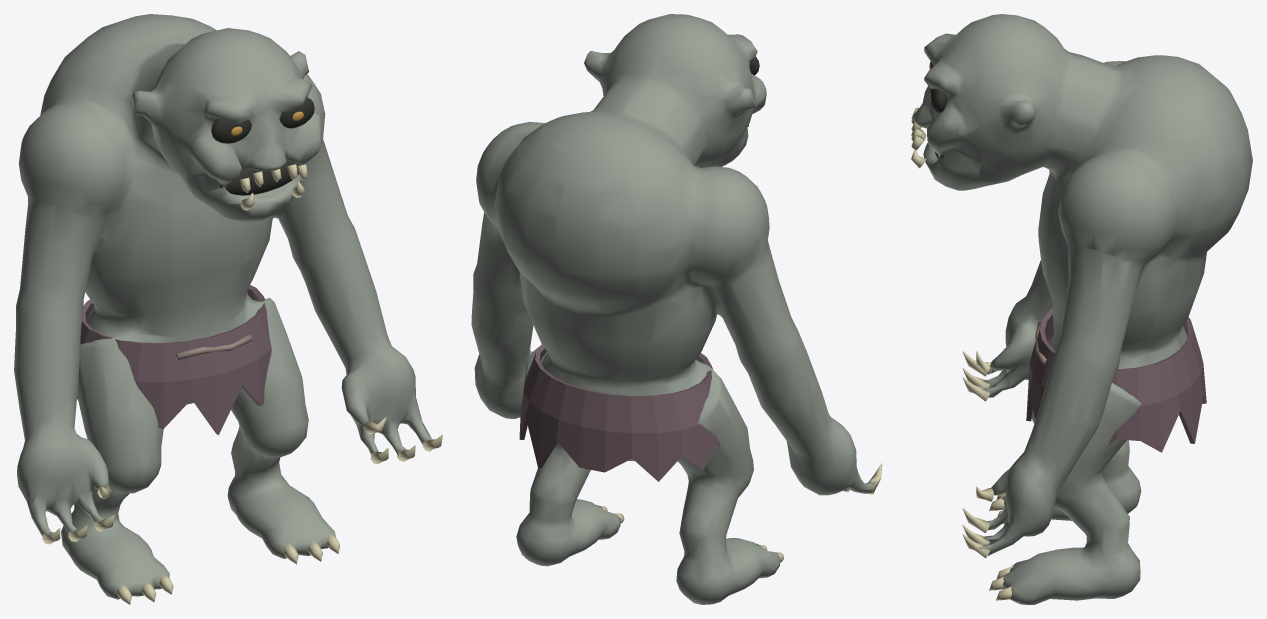
File: crypt-ghoul-blender-v2.glb
3 views of the same model, side by side, from view 1: azimuth 30°, elevation 25°; view 2: azimuth 150°, elevation 25°; view 3: azimuth 270°, elevation 25° (orthographic). The views are drawn at different scales.
Visible parts, largest first — view 1: GhoulSkin, Torn burial wrap, Mouth opening, Eye socket; view 2: GhoulSkin, Torn burial wrap; view 3: GhoulSkin, Torn burial wrap.
Boxes of the visible parts, bbox=[...] form: GhoulSkin: bbox=[14, 14, 433, 599]; Torn burial wrap: bbox=[77, 285, 271, 435]; Mouth opening: bbox=[220, 160, 298, 195]; Eye socket: bbox=[211, 118, 251, 143]; GhoulSkin: bbox=[471, 14, 876, 604]; Torn burial wrap: bbox=[519, 345, 719, 481]; GhoulSkin: bbox=[913, 14, 1252, 604]; Torn burial wrap: bbox=[1026, 308, 1206, 452].
Size of the model in its own units: 1.61 by 2.13 by 1.24.
